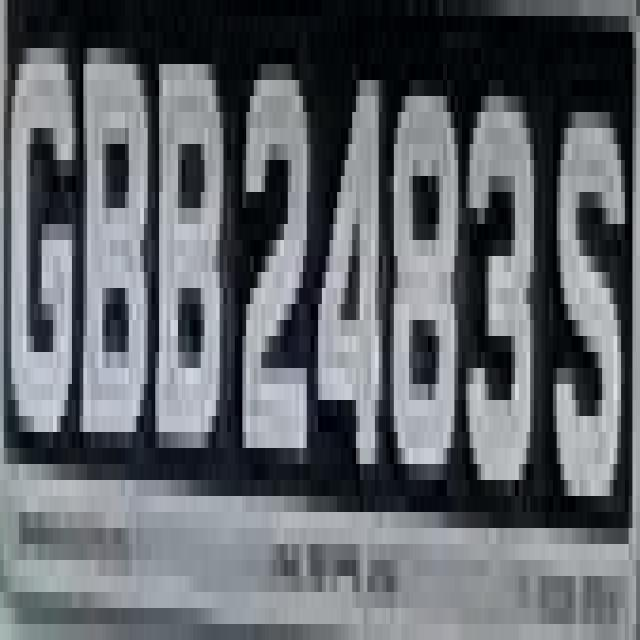2: (246, 16, 314, 496)
3: (462, 48, 542, 528)
4: (307, 16, 390, 528)
8: (386, 48, 458, 544)
B: (148, 16, 227, 496), (83, 16, 148, 496)
G: (15, 16, 76, 496)
S: (549, 48, 621, 544)
